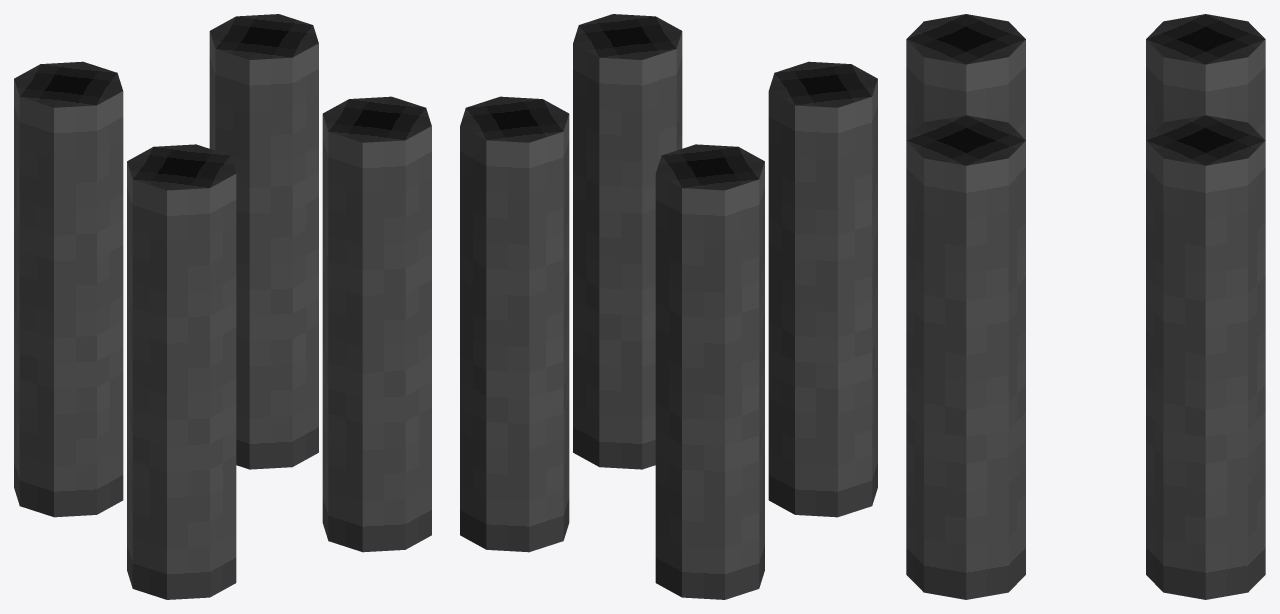
The model's file is pipe_quad.obj.
3 renders of one model, left to right at view 1: azimuth 30°, elevation 25°; view 2: azimuth 150°, elevation 25°; view 3: azimuth 270°, elevation 25°, orthographic. The views are drawn at different scales.
Visible parts, largest first — view 1: Side, Top; view 2: Side, Top; view 3: Side, Top.
Part boxes in pixels (x1,y1,x2,y2): Side: (14, 31, 431, 599); Top: (14, 14, 431, 190); Side: (460, 31, 877, 599); Top: (460, 14, 877, 190); Side: (906, 39, 1265, 599); Top: (906, 14, 1265, 165).
Bounding box in the file's own units: 0.75 × 1 × 0.75.
